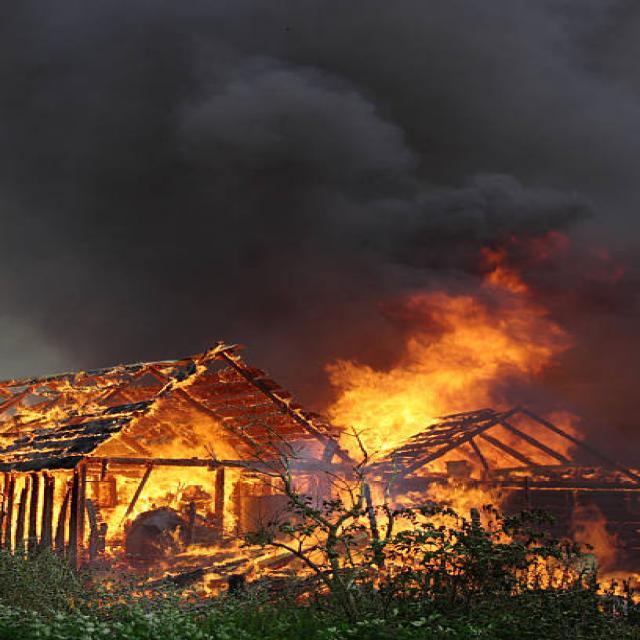Fire: (306, 230, 604, 580), (2, 359, 272, 553)
Smoke: (0, 0, 640, 434)
